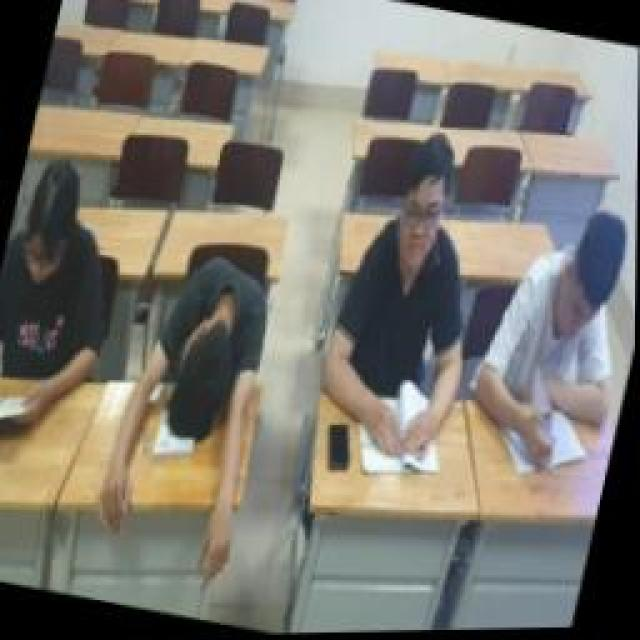sleep: (90, 242, 292, 578)
study: (298, 123, 508, 475), (465, 185, 637, 485), (0, 152, 135, 452)
